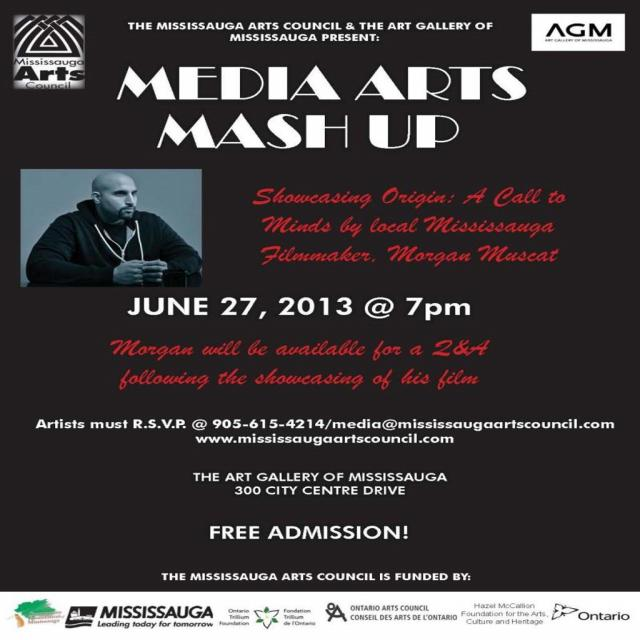nomask: (99, 176, 137, 219)
